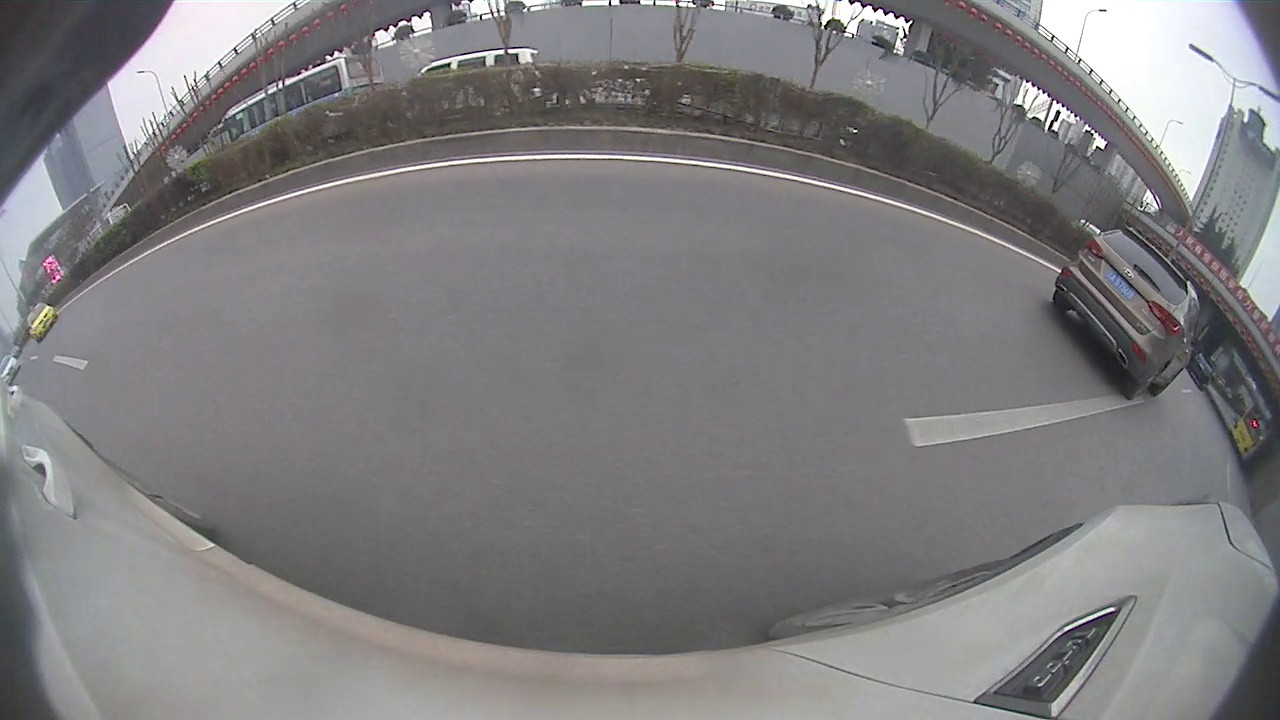car: (1053, 227, 1197, 398), (25, 302, 57, 338)
rear: (1132, 361, 1164, 397)
